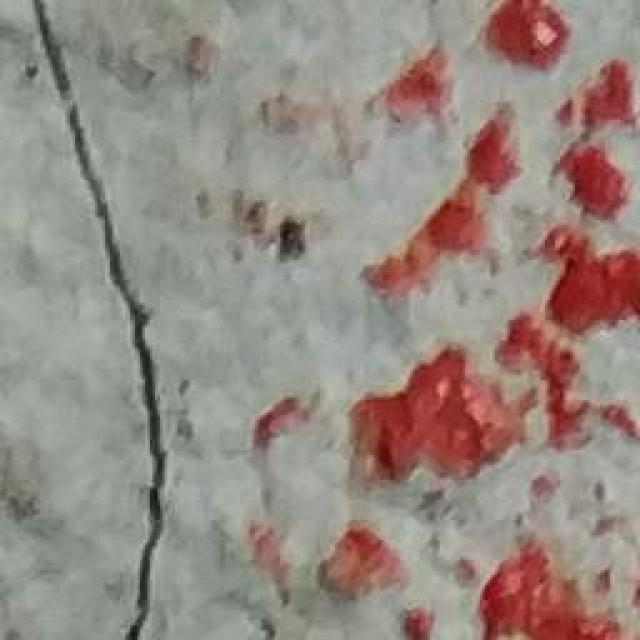Longitudinal: (15, 0, 187, 640)
